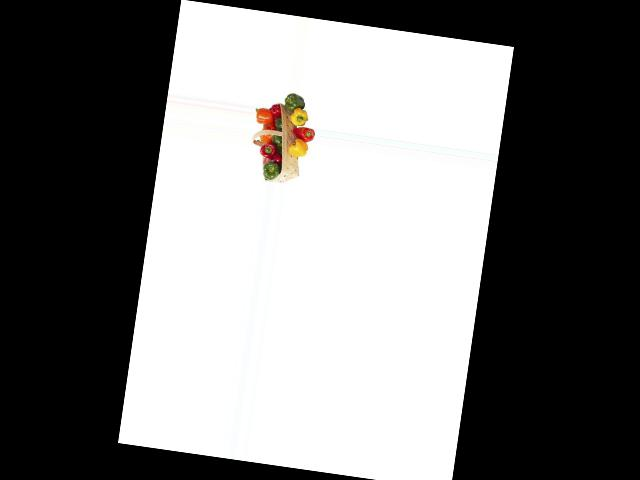bell_pepper: (261, 158, 280, 180)
